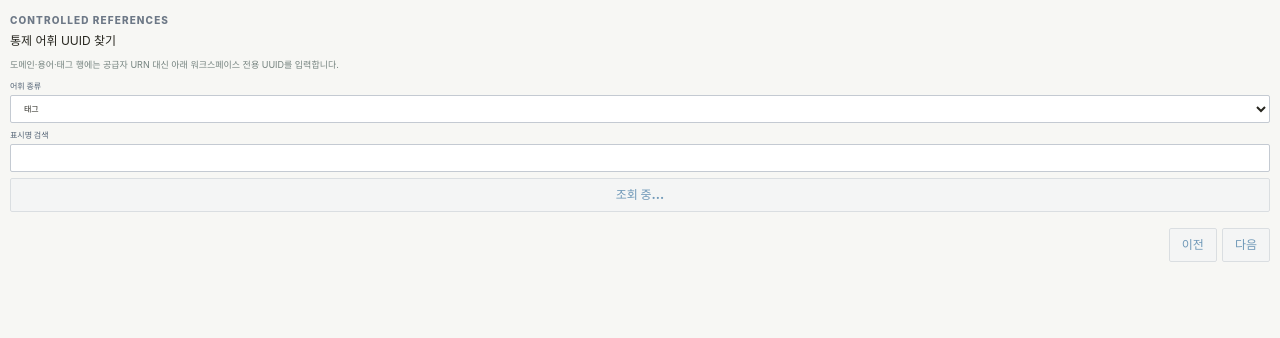
Test: binds a search to its kind and discards an older late response
Select "도메인" in the dropdown labelled "어휘 종류" at (640, 108), box [10,94,1270,122]
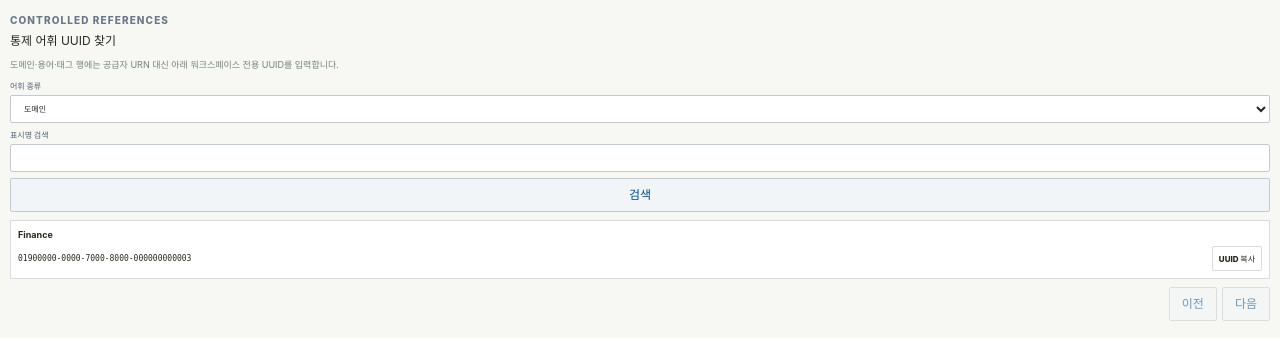
Result: the text "Finance" is shown at [18,228,53,240]
